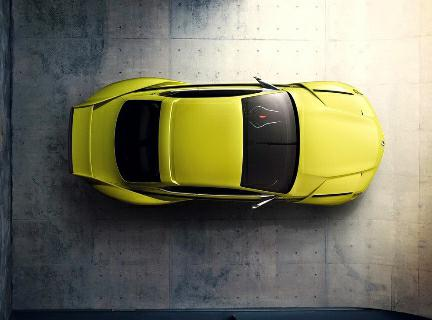宝马-30CSLHommage: (62, 74, 388, 217)
